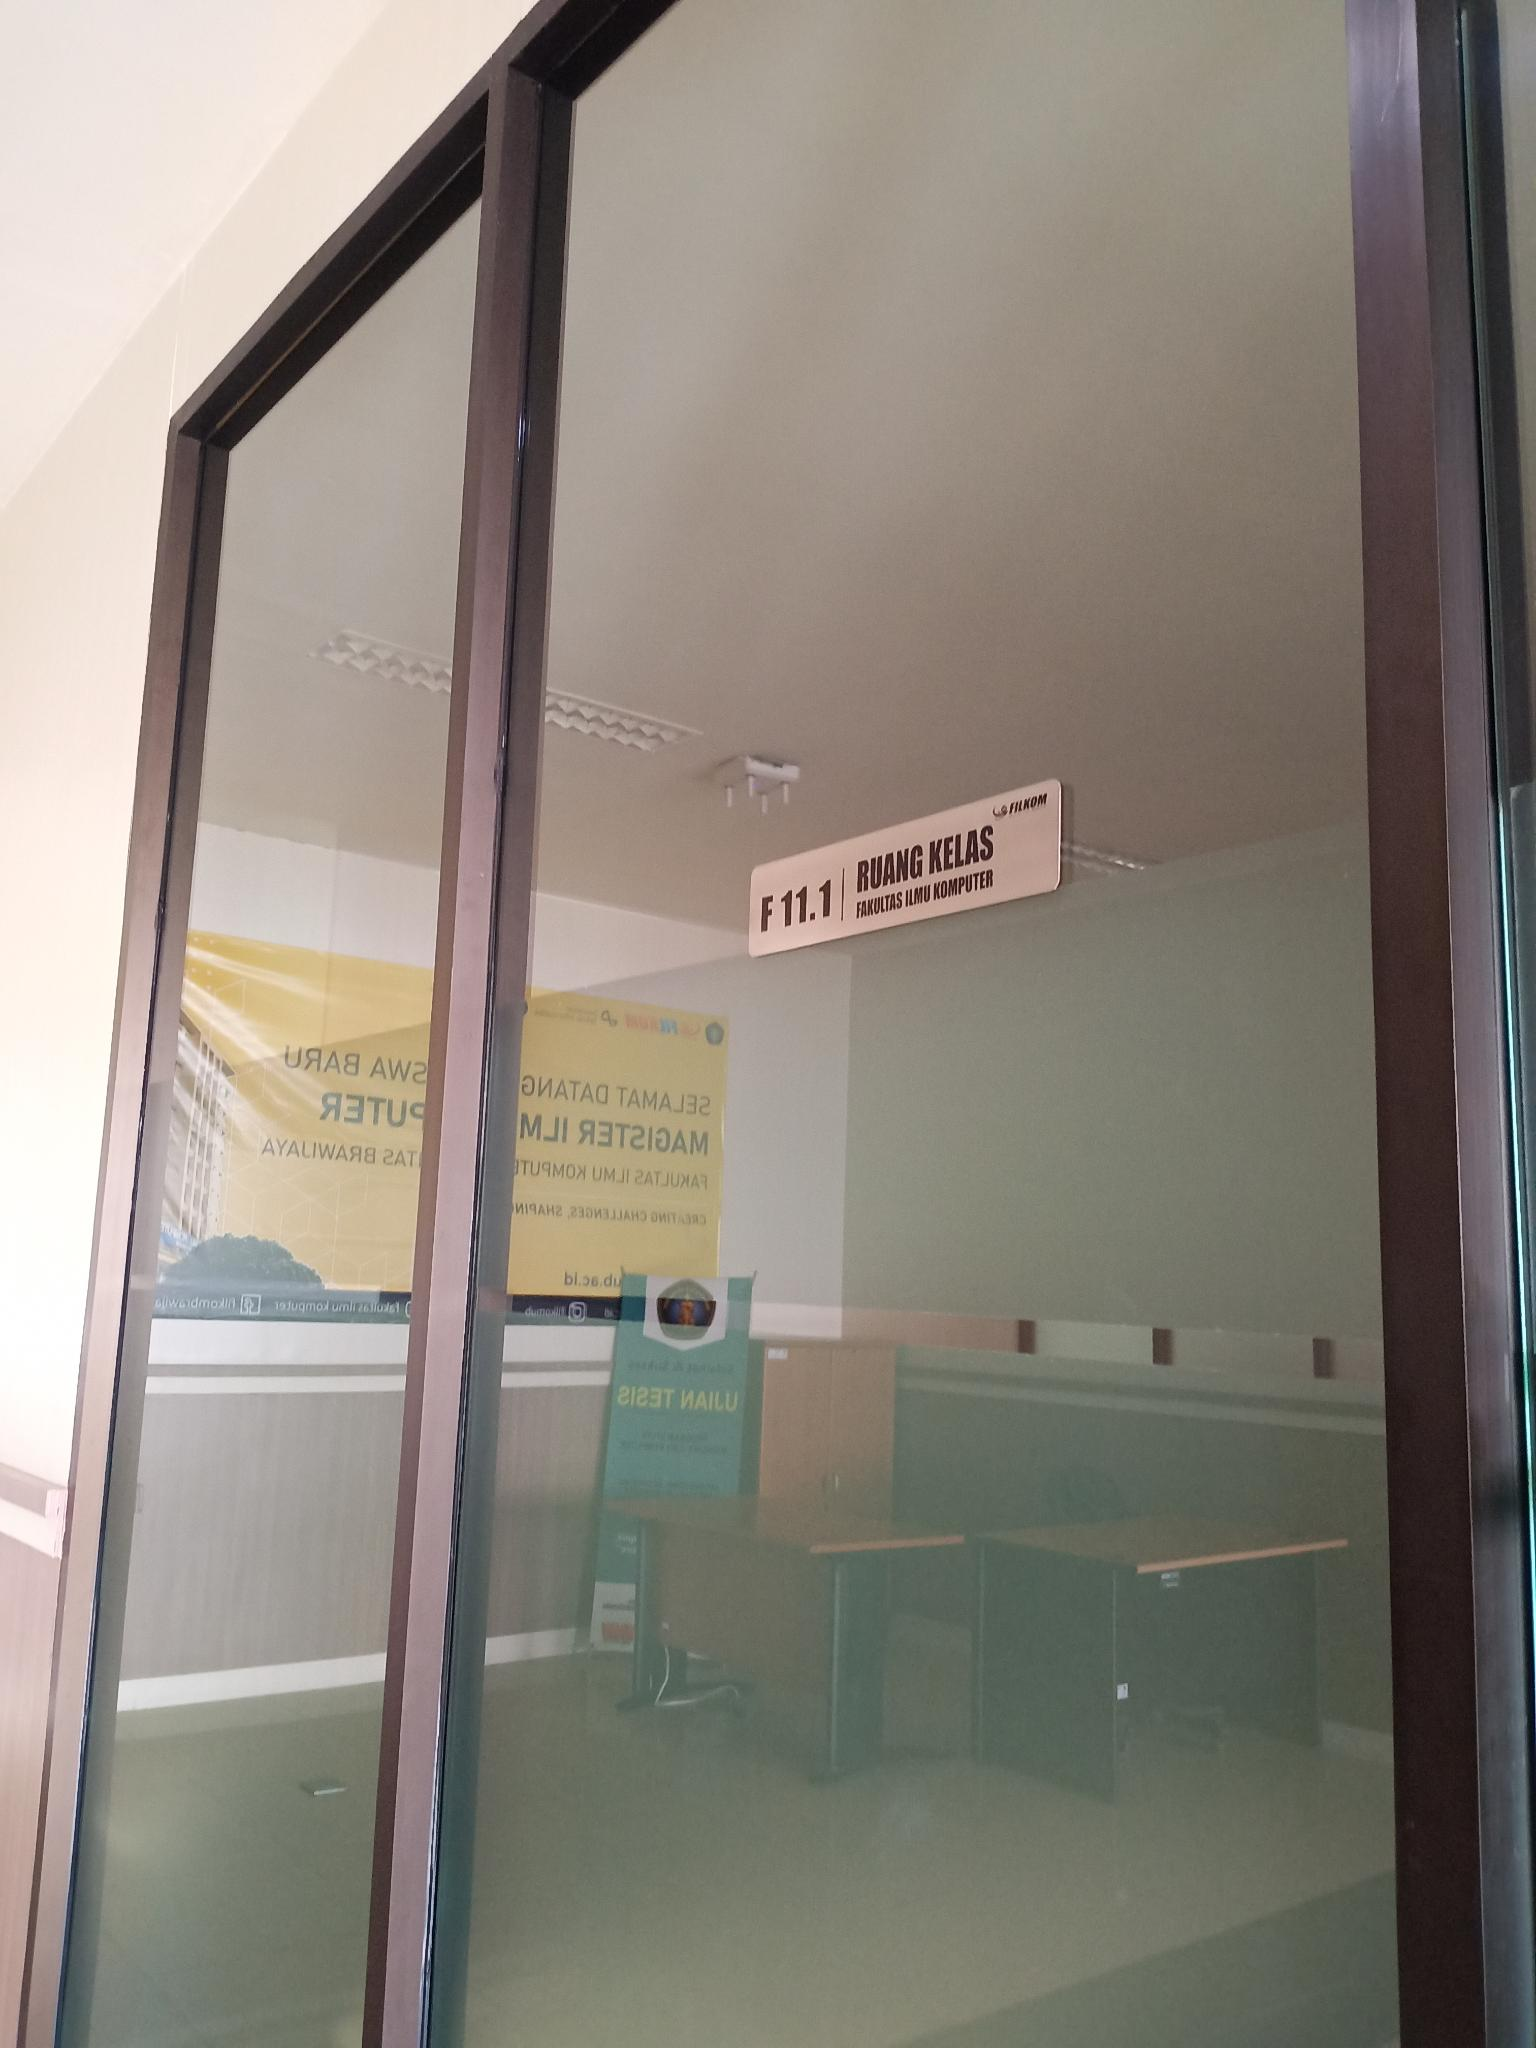plate: (744, 779, 1063, 961)
